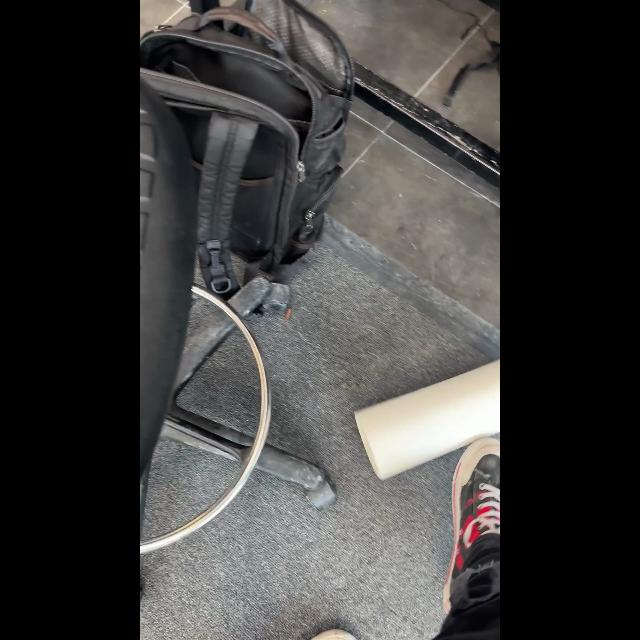CORAL: (353, 358, 499, 480)
